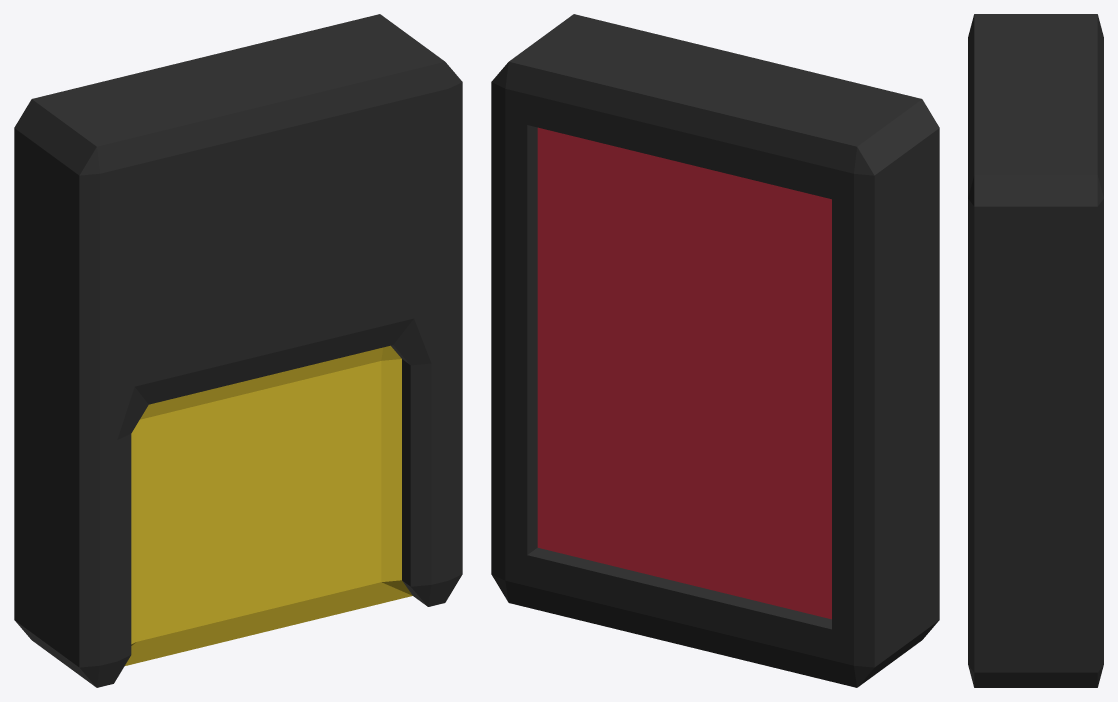
Rendered from メモリー.fbx.
The picture shows the model from 3 angles, left to right: view 1: azimuth 30°, elevation 25°; view 2: azimuth 150°, elevation 25°; view 3: azimuth 270°, elevation 25°; orthographic projection. The views are drawn at different scales.
Visible parts, largest first — view 1: 立方体; view 2: 立方体; view 3: 立方体.
Part boxes in pixels (<box>): 立方体: <box>14,14,462,687</box>; 立方体: <box>491,14,939,687</box>; 立方体: <box>968,14,1103,687</box>.
Size of the model in its own units: 148 by 200 by 48.04.
